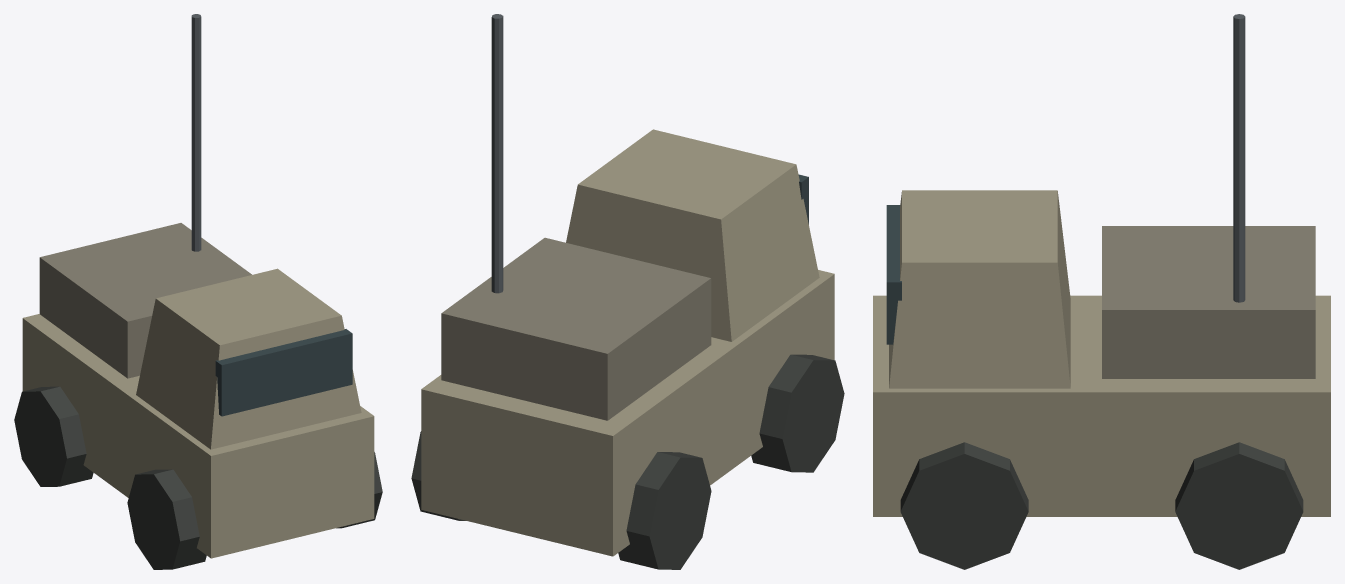
The model's file is wm_party_syndic.glb.
3 renders of one model, left to right at view 1: azimuth 30°, elevation 25°; view 2: azimuth 150°, elevation 25°; view 3: azimuth 270°, elevation 25°, orthographic. The views are drawn at different scales.
Visible parts, largest first — view 1: hull, cab, load, glass, wheel0, wheel2, antenna; view 2: hull, load, cab, wheel0, wheel2, antenna, wheel3; view 3: hull, cab, load, wheel1, wheel3, antenna, glass.
Boxes of the visible parts, x1,y1,x2,y2 form: hull: [22, 314, 374, 558]; cab: [136, 268, 361, 449]; load: [39, 223, 251, 378]; glass: [215, 329, 352, 416]; wheel0: [127, 469, 206, 569]; wheel2: [14, 386, 93, 486]; antenna: [191, 14, 201, 251]; hull: [421, 270, 834, 556]; load: [441, 237, 711, 420]; cab: [566, 129, 819, 341]; wheel0: [751, 354, 844, 472]; wheel2: [618, 452, 711, 569]; antenna: [491, 14, 503, 293]; wheel3: [411, 431, 465, 520]; hull: [873, 295, 1330, 516]; cab: [889, 190, 1070, 388]; load: [1102, 226, 1315, 378]; wheel1: [900, 442, 1028, 569]; wheel3: [1175, 442, 1303, 569]; antenna: [1233, 14, 1245, 302]; glass: [886, 205, 901, 344].
Size of the model in its own units: 1.86 by 3.8 by 3.
